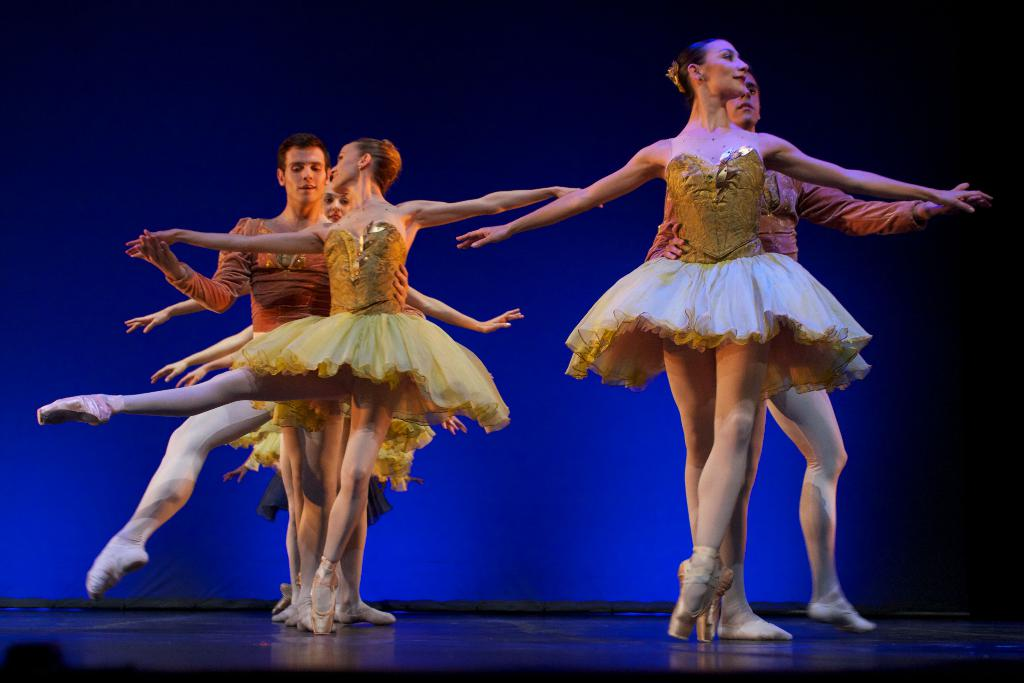Person: (37, 38, 992, 641)
